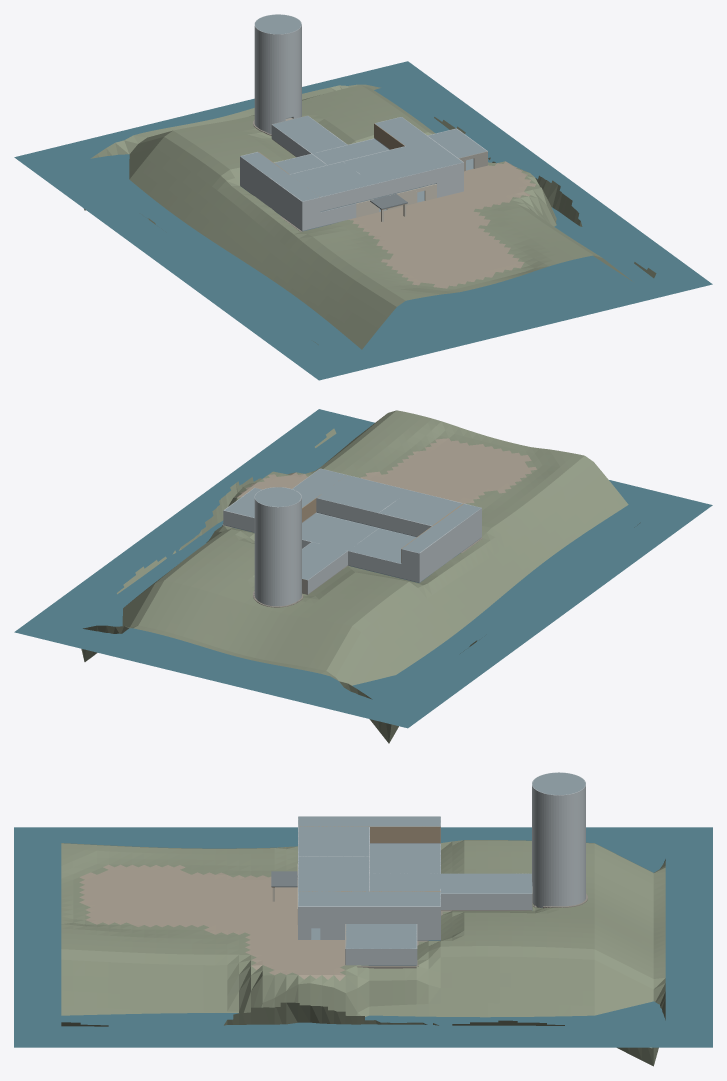
Rendered from coast-entrances.glb.
The picture shows the model from 3 angles, top to bottom: view 1: azimuth 30°, elevation 25°; view 2: azimuth 150°, elevation 25°; view 3: azimuth 270°, elevation 25°; orthographic projection. The views are drawn at different scales.
Visible parts, largest first — view 1: WATER PLACEHOLDER / layers and transparency pending, WLD-14 saved ground, Ceiling cap study, Ceiling cap bed, Ceiling cap upperhall, Ceiling cap passage, Ceiling cap service-upper, Wall service-stair W, Ceiling cap store, Wall service-upper W, Wall study S, Ceiling cap generator (+8 smaller); view 2: WLD-14 saved ground, WATER PLACEHOLDER / layers and transparency pending, Ceiling cap study, Ceiling cap store, Ceiling cap bed, Ceiling cap workroom, Ceiling cap service-upper, Wall service-stair W, Ceiling cap passage, Wall service-upper W, Wall study N, Ceiling cap upperhall (+10 smaller); view 3: WLD-14 saved ground, WATER PLACEHOLDER / layers and transparency pending, Ceiling cap study, Wall upperhall E, Ceiling cap upperhall, Ceiling cap bed, Ceiling cap workroom, Ceiling cap passage, Ceiling cap generator, Ceiling cap service-upper, Wall passage E, Ceiling cap store (+10 smaller).
Part boxes in pixels (x1,y1,x2,y2): WATER PLACEHOLDER / layers and transparency pending: (14, 61, 712, 380); WLD-14 saved ground: (84, 84, 656, 349); Ceiling cap study: (343, 146, 436, 183); Ceiling cap bed: (289, 161, 373, 196); Ceiling cap upperhall: (375, 117, 462, 168); Ceiling cap passage: (272, 115, 346, 153); Ceiling cap service-upper: (241, 152, 319, 201); Wall service-stair W: (240, 170, 302, 230); Ceiling cap store: (313, 138, 389, 164); Wall service-upper W: (240, 156, 302, 215); Wall study S: (374, 169, 436, 198); Ceiling cap generator: (428, 129, 486, 158); WLD-14 saved ground: (81, 410, 640, 743); WATER PLACEHOLDER / layers and transparency pending: (14, 409, 712, 728); Ceiling cap study: (317, 475, 409, 512); Ceiling cap store: (302, 513, 377, 550); Ceiling cap bed: (379, 490, 462, 525); Ceiling cap workroom: (348, 528, 415, 563); Ceiling cap service-upper: (402, 504, 480, 552); Wall service-stair W: (419, 522, 481, 582); Ceiling cap passage: (302, 542, 346, 579); Wall service-upper W: (419, 508, 481, 567); Wall study N: (316, 498, 378, 527); Ceiling cap upperhall: (292, 468, 346, 507); WLD-14 saved ground: (61, 840, 665, 1066); WATER PLACEHOLDER / layers and transparency pending: (14, 827, 712, 1047); Ceiling cap study: (298, 856, 369, 891); Wall upperhall E: (298, 906, 440, 922); Ceiling cap upperhall: (298, 891, 440, 906); Ceiling cap bed: (298, 826, 369, 856); Ceiling cap workroom: (370, 844, 440, 873); Ceiling cap passage: (440, 873, 532, 893); Ceiling cap generator: (345, 924, 416, 948); Ceiling cap service-upper: (298, 816, 440, 826); Wall passage E: (441, 893, 532, 909); Ceiling cap store: (370, 873, 440, 891).
Size of the model in its own units: 88 by 38.28 by 118.
